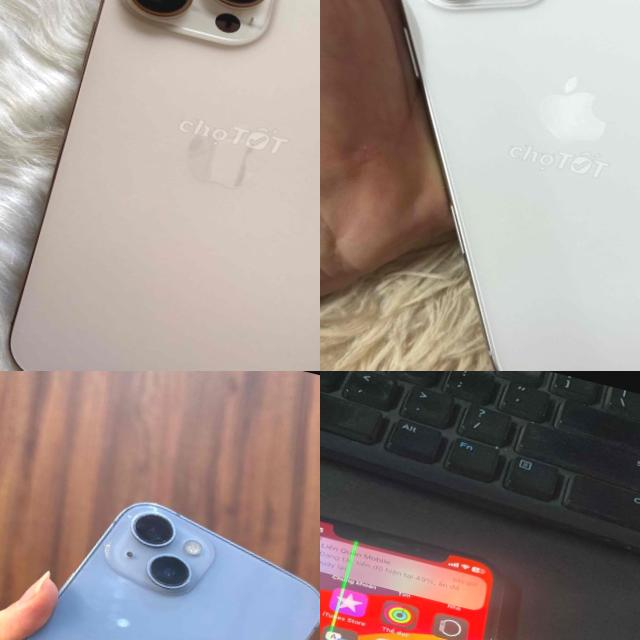screen_defect: (322, 540, 358, 640)
